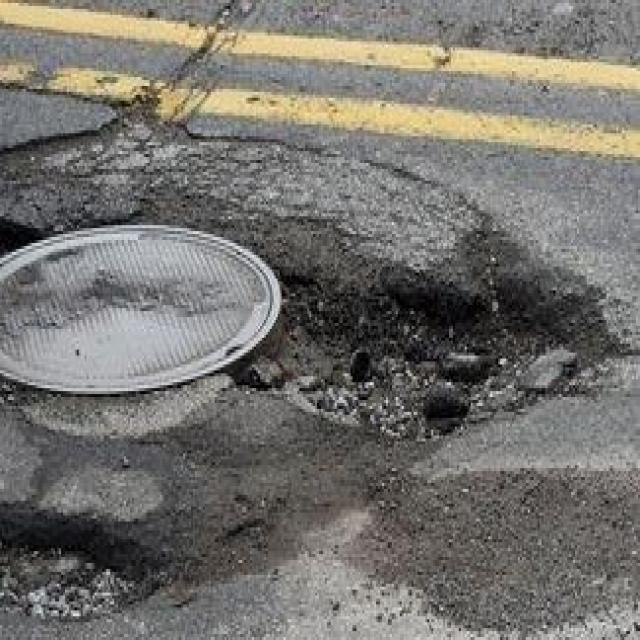jalan retak: (9, 136, 425, 202), (434, 7, 640, 73), (4, 66, 179, 130), (162, 2, 274, 86)
lubang: (249, 219, 626, 442), (8, 368, 264, 466), (1, 483, 174, 628), (44, 189, 264, 241), (208, 484, 312, 568), (106, 85, 193, 150), (222, 343, 292, 403), (0, 195, 45, 272)
